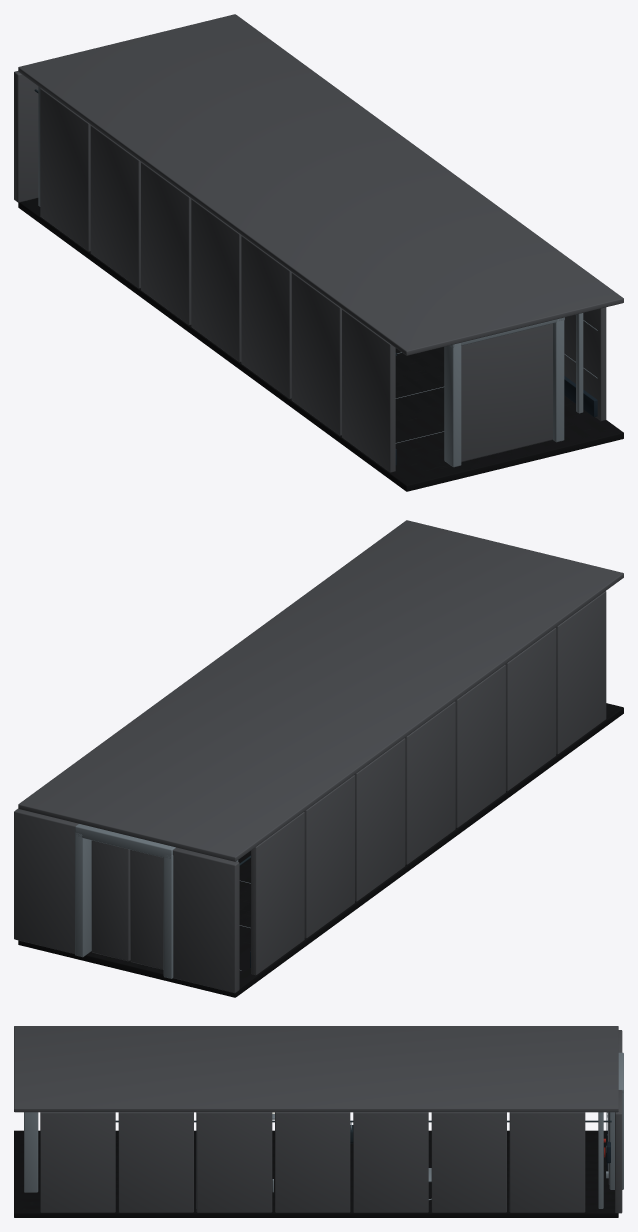
Rendered from station-interior.glb.
3 renders of one model, top to bottom at view 1: azimuth 30°, elevation 25°; view 2: azimuth 150°, elevation 25°; view 3: azimuth 270°, elevation 25°, orthographic. The views are drawn at different scales.
Parts seen in each view (by area): view 1: Ceiling, StationDeck, EntryLeaf, WallPanel-10, WallPanel-12, WallPanel-15, WallPanel-16, WallPanel-11, WallPanel-14, WallPanel-13, EndWall-1, WallPanel10 (+3 smaller); view 2: Ceiling, EndWall-1, EndWall1, WallPanel-16, WallPanel-10, WallPanel-14, WallPanel-11, WallPanel-12, WallPanel-13, WallPanel-15, StationDeck, DoorPanel1 (+4 smaller); view 3: Ceiling, StationDeck, WallPanel12, WallPanel16, WallPanel10, WallPanel14, WallPanel11, WallPanel13, WallPanel15, AirlockJamb1, EndWall1, LockedDoorJamb1 (+1 smaller).
Boxes of the visible parts, x1=… form: Ceiling: x1=18, y1=14, x2=623, y2=355; StationDeck: x1=18, y1=198, x2=623, y2=491; EntryLeaf: x1=461, y1=323, x2=552, y2=462; WallPanel-10: x1=342, y1=309, x2=395, y2=472; WallPanel-12: x1=241, y1=235, x2=292, y2=398; WallPanel-15: x1=90, y1=125, x2=140, y2=288; WallPanel-16: x1=40, y1=88, x2=90, y2=251; WallPanel-11: x1=291, y1=272, x2=342, y2=435; WallPanel-14: x1=141, y1=162, x2=191, y2=325; WallPanel-13: x1=191, y1=199, x2=241, y2=362; EndWall-1: x1=14, y1=71, x2=38, y2=202; WallPanel10: x1=564, y1=307, x2=606, y2=421; Ceiling: x1=18, y1=520, x2=623, y2=861; EndWall-1: x1=173, y1=847, x2=239, y2=993; EndWall1: x1=14, y1=809, x2=78, y2=953; WallPanel-16: x1=251, y1=812, x2=304, y2=975; WallPanel-10: x1=555, y1=591, x2=606, y2=754; WallPanel-14: x1=354, y1=738, x2=405, y2=901; WallPanel-11: x1=505, y1=628, x2=556, y2=791; WallPanel-12: x1=455, y1=664, x2=505, y2=827; WallPanel-13: x1=405, y1=701, x2=455, y2=864; WallPanel-15: x1=304, y1=775, x2=354, y2=938; StationDeck: x1=18, y1=703, x2=623, y2=997; DoorPanel1: x1=91, y1=840, x2=130, y2=961; Ceiling: x1=14, y1=1026, x2=618, y2=1112; StationDeck: x1=14, y1=1130, x2=618, y2=1217; WallPanel12: x1=196, y1=1112, x2=272, y2=1212; WallPanel16: x1=509, y1=1112, x2=585, y2=1212; WallPanel10: x1=40, y1=1112, x2=115, y2=1212; WallPanel14: x1=353, y1=1112, x2=428, y2=1212; WallPanel11: x1=118, y1=1112, x2=193, y2=1212; WallPanel13: x1=275, y1=1112, x2=350, y2=1212; WallPanel15: x1=431, y1=1112, x2=506, y2=1212; AirlockJamb1: x1=24, y1=1112, x2=38, y2=1192; EndWall1: x1=615, y1=1090, x2=622, y2=1213; LockedDoorJamb1: x1=609, y1=1093, x2=623, y2=1189.
Size of the model in its own units: 5.6 by 3.4 by 17.15.
Materials: 13 (1 with a texture image).
